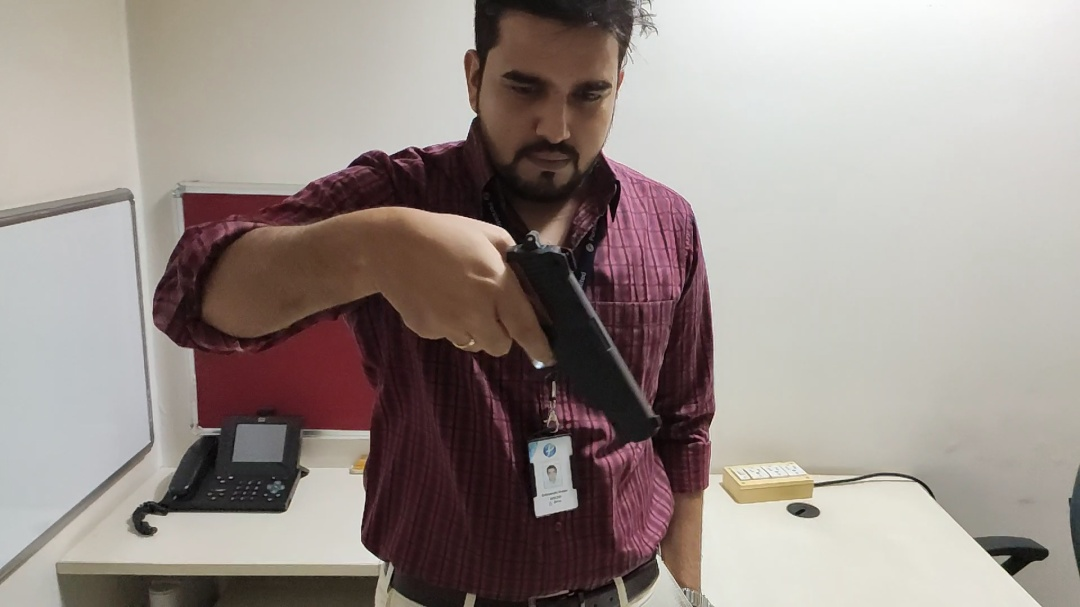gun: (428, 230, 674, 442)
